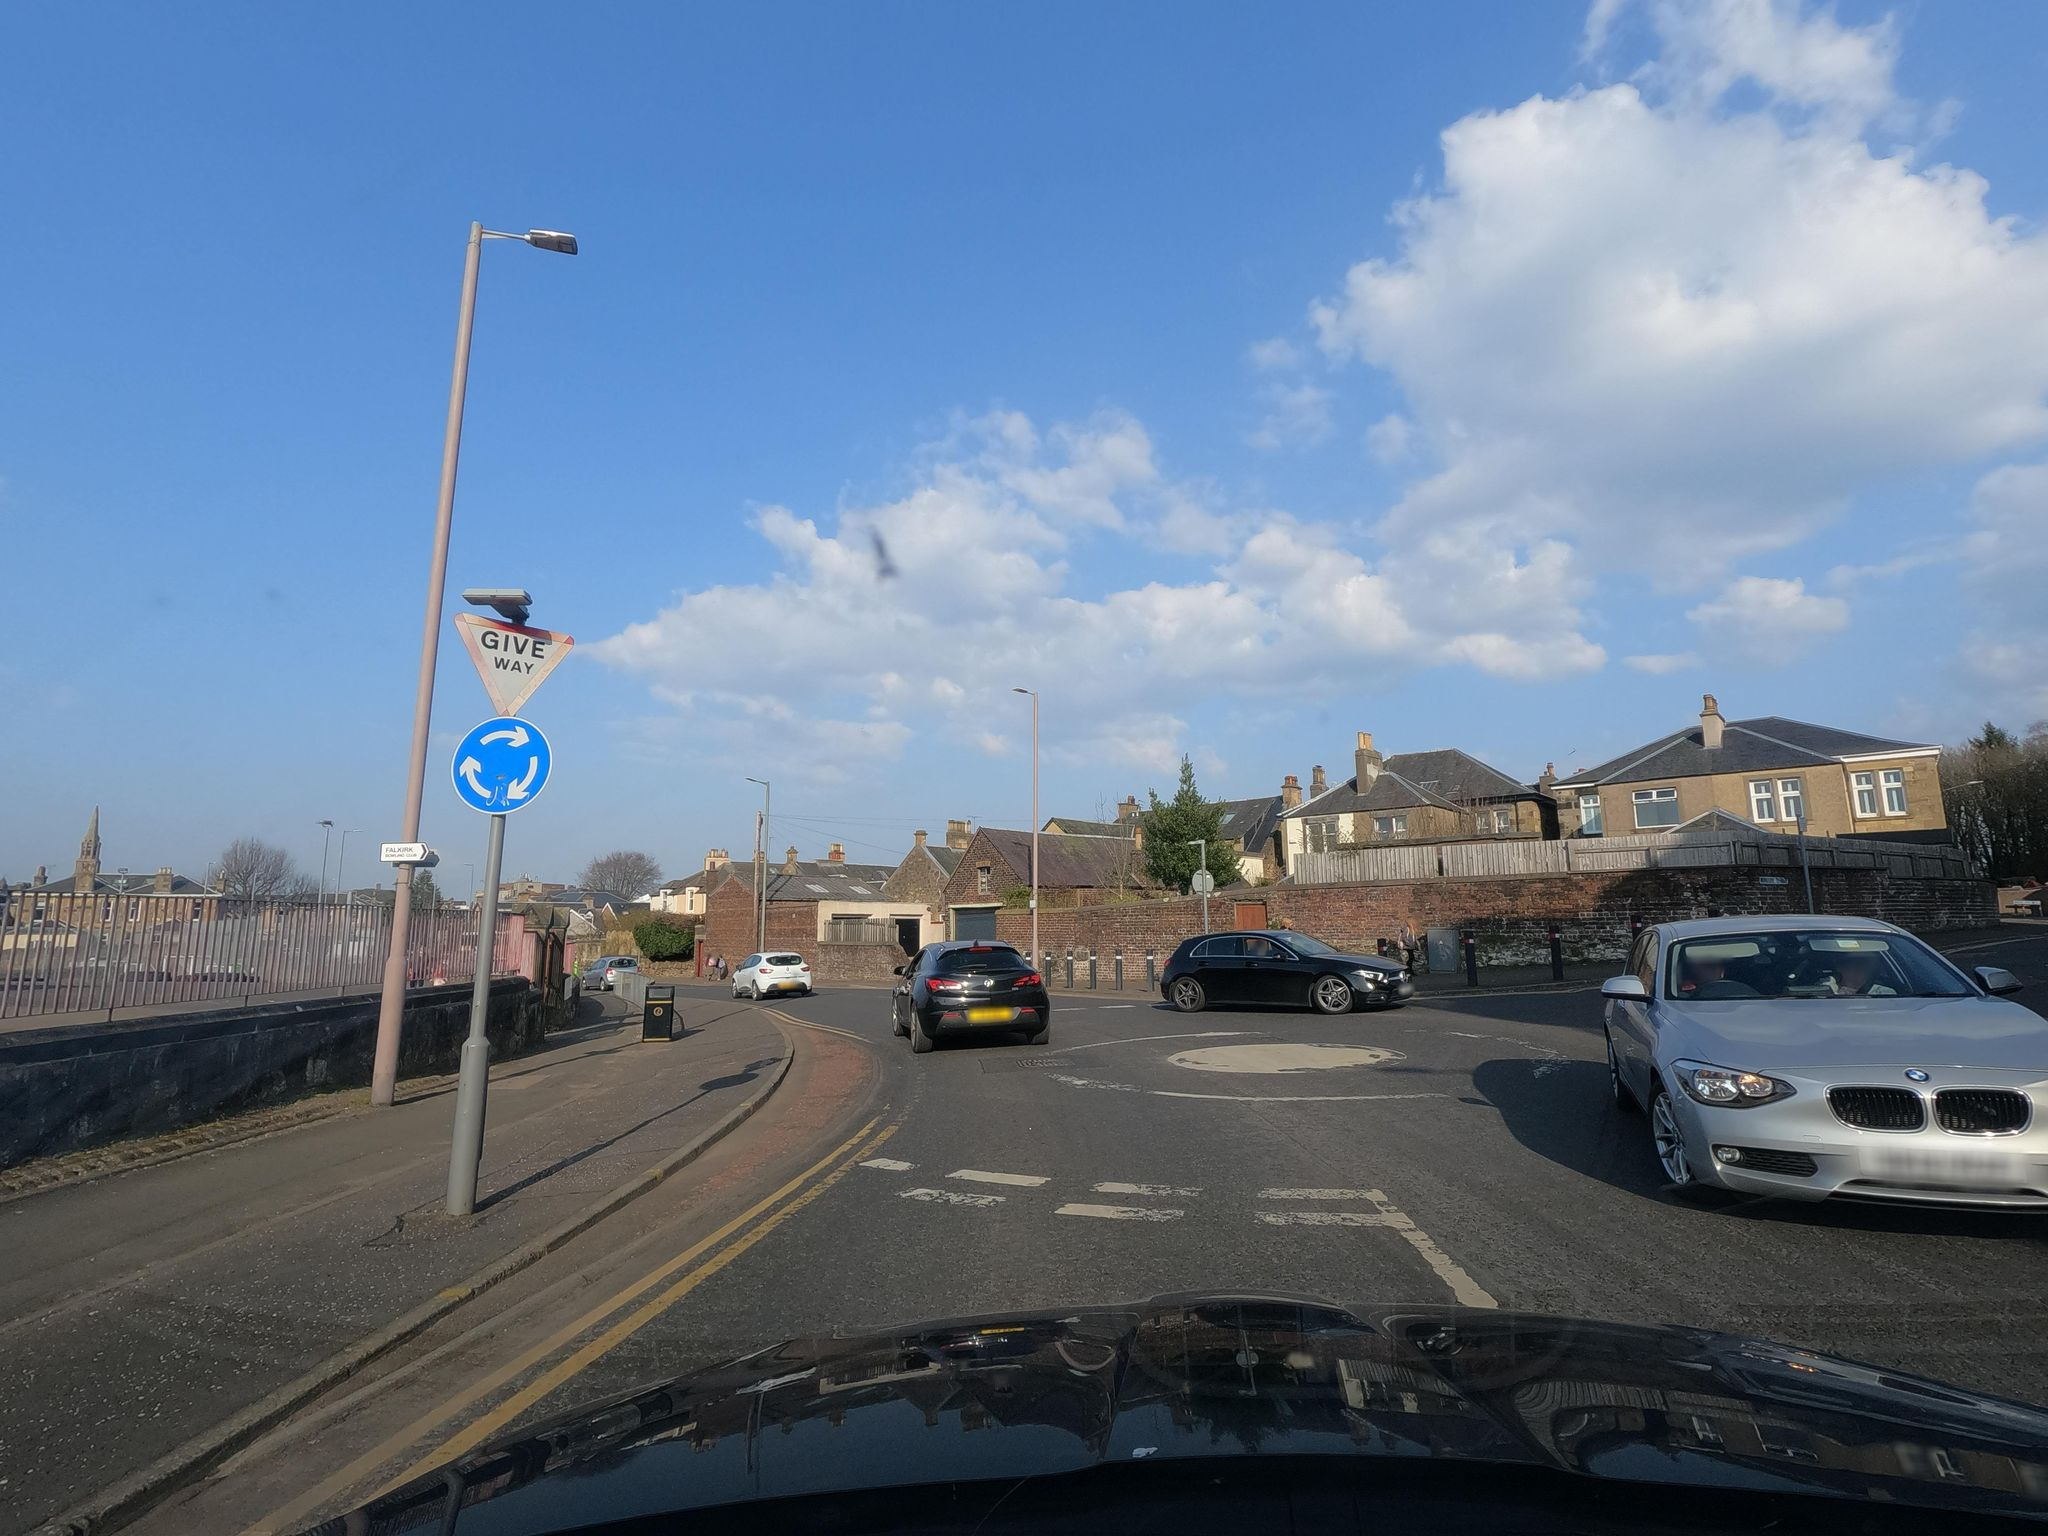car: (1596, 912, 2048, 1225), (1158, 928, 1413, 1015), (890, 937, 1051, 1054), (731, 950, 813, 1000), (581, 955, 640, 991)
